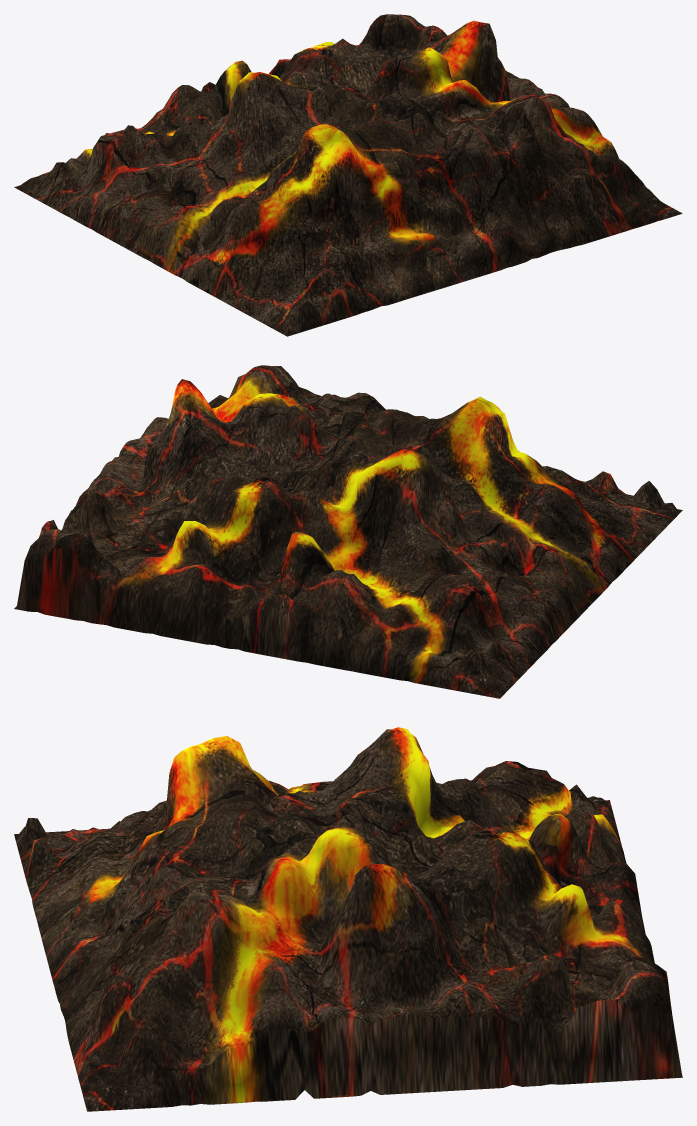
The model's file is majestic mountain.obj.
The picture shows the model from 3 angles, top to bottom: view 1: azimuth 30°, elevation 25°; view 2: azimuth 150°, elevation 25°; view 3: azimuth 270°, elevation 25°; orthographic projection. The views are drawn at different scales.
Visible parts, largest first — view 1: Mesh; view 2: Mesh; view 3: Mesh.
Boxes of the visible parts, <box> form: Mesh: <box>14,14,682,336</box>; Mesh: <box>14,365,682,698</box>; Mesh: <box>14,727,682,1111</box>.
Bounding box in the file's own units: 24.75 × 6.82 × 22.45.
